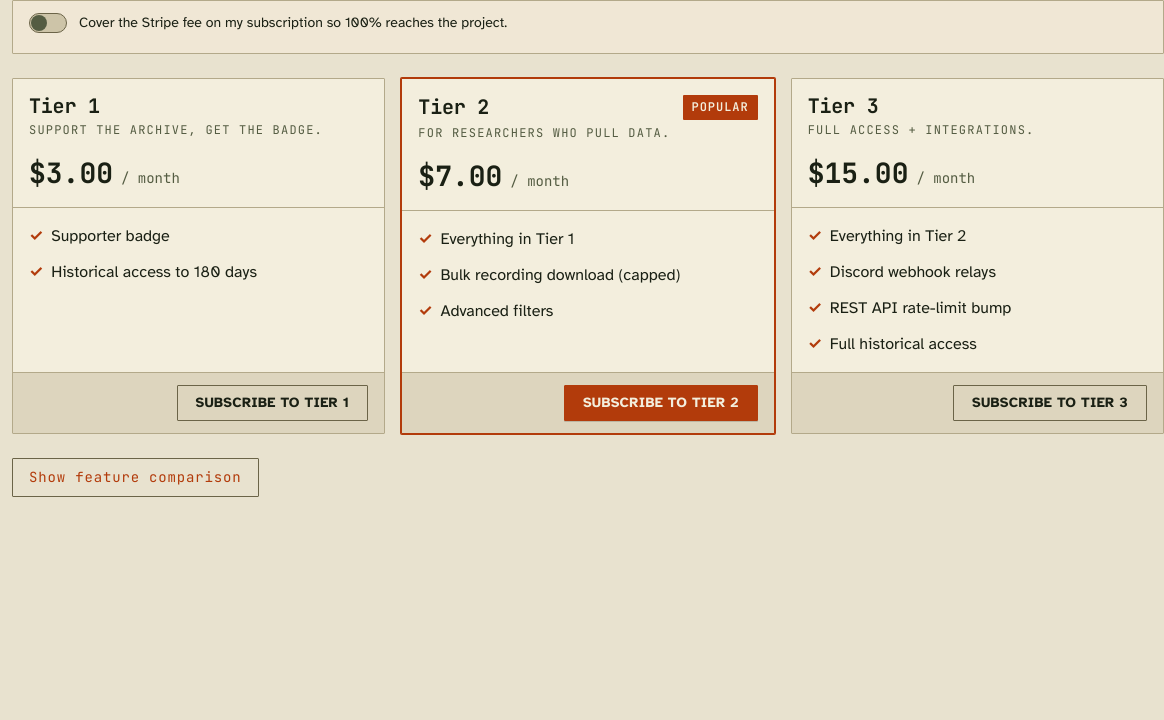
SupportTiers › lets a signed-in user start subscription checkout (stub)
The image size is (1164, 720).
Click the button "Subscribe to Tier 2".
click(661, 403)  # box [564,385,758,421]
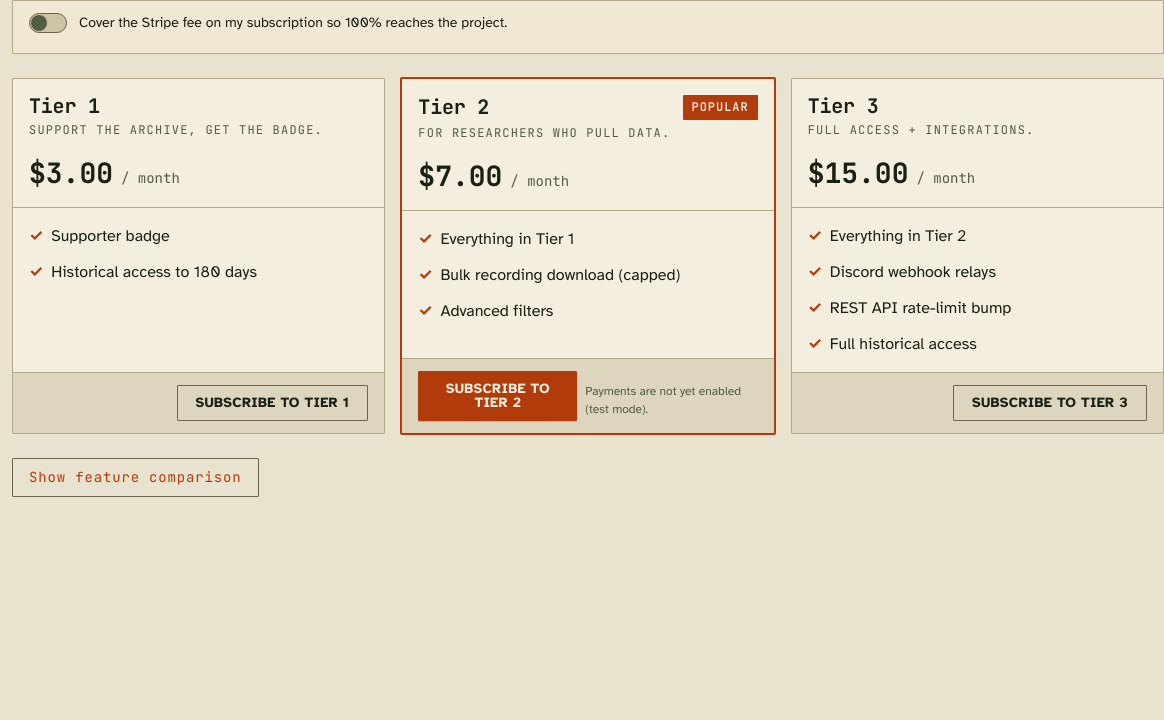
Expected: the text "Payments are not yet enabled (test mode)." is shown, [585,382,758,418]
